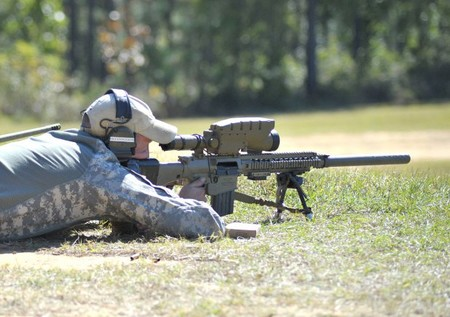Arma Real: (127, 118, 411, 218)
